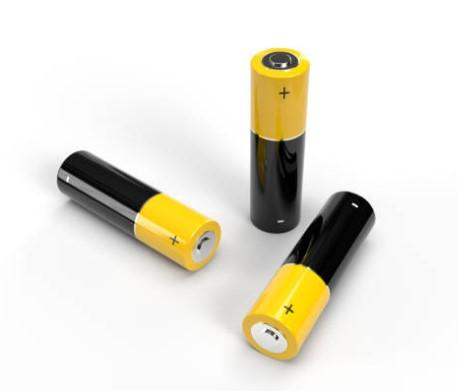Battery: (244, 192, 376, 360), (57, 152, 221, 270), (251, 48, 311, 232)
